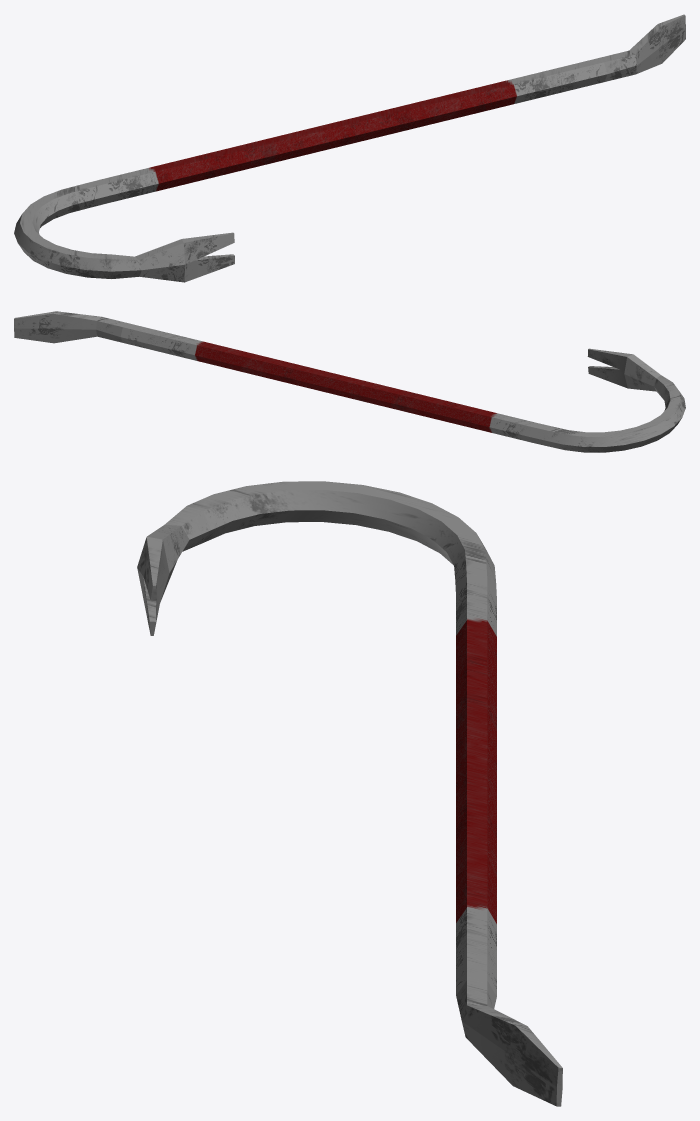
The model's file is crowbar.fbx.
3 renders of one model, top to bottom at view 1: azimuth 30°, elevation 25°; view 2: azimuth 150°, elevation 25°; view 3: azimuth 270°, elevation 25°, orthographic. The views are drawn at different scales.
Parts seen in each view (by area): view 1: pCylinder1; view 2: pCylinder1; view 3: pCylinder1.
Boxes of the visible parts, bbox=[...] form: pCylinder1: bbox=[14, 14, 685, 282]; pCylinder1: bbox=[14, 311, 685, 452]; pCylinder1: bbox=[137, 481, 562, 1106].
Size of the model in its own units: 1232 by 74.95 by 379.
Materials: 1 (1 with a texture image).
